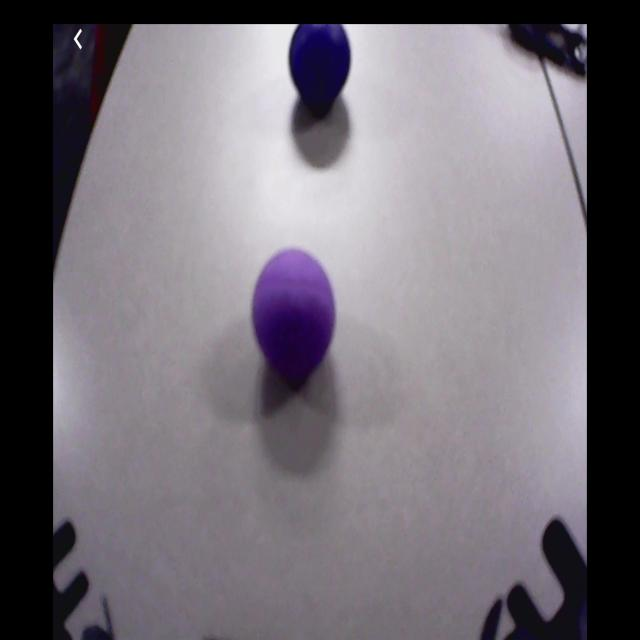ball: (254, 248, 336, 369), (291, 24, 351, 109)
